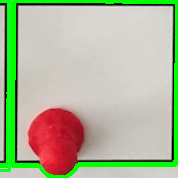Red Pawn: (24, 106, 87, 176)
